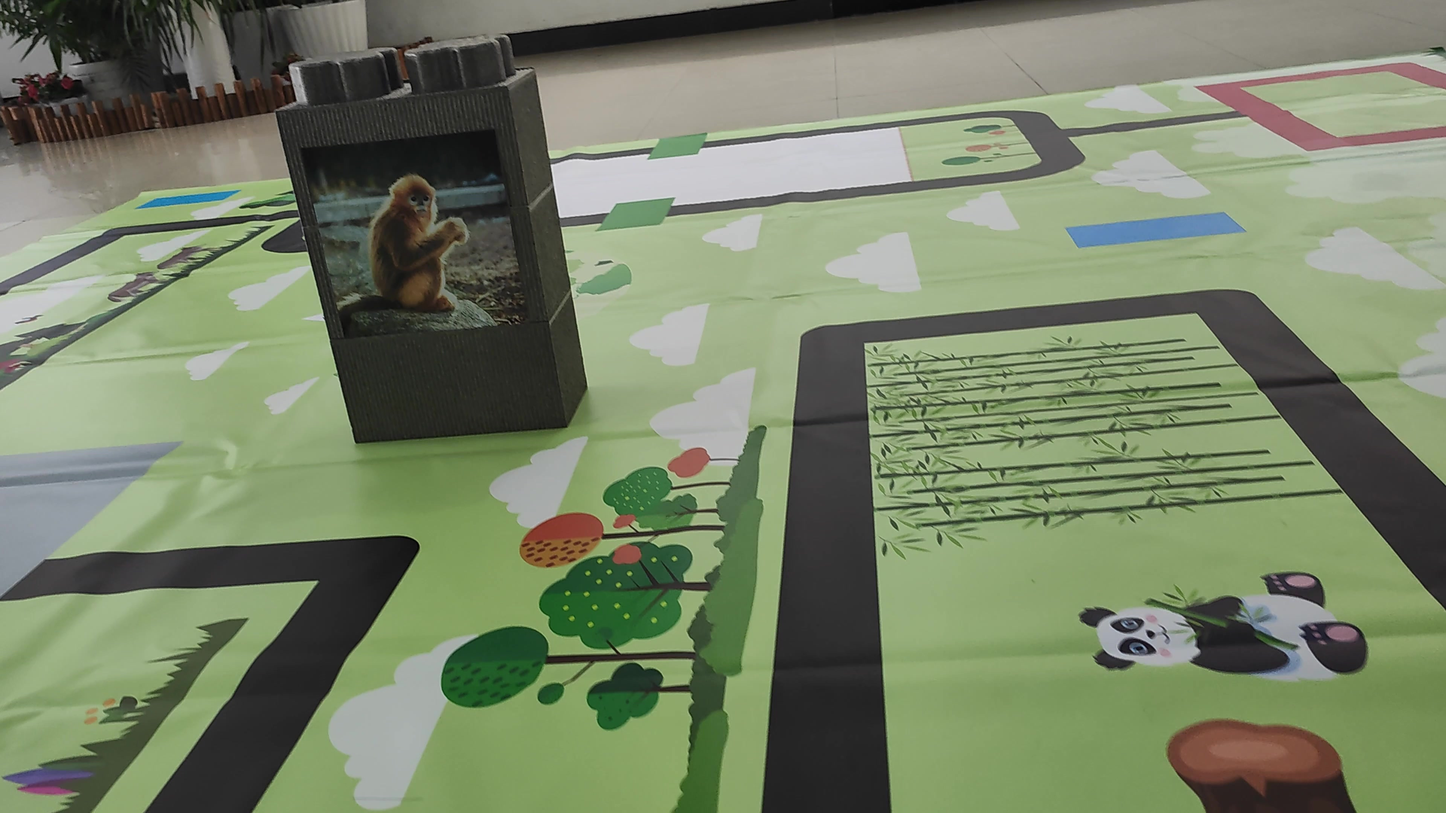monkey: (325, 171, 502, 336)
